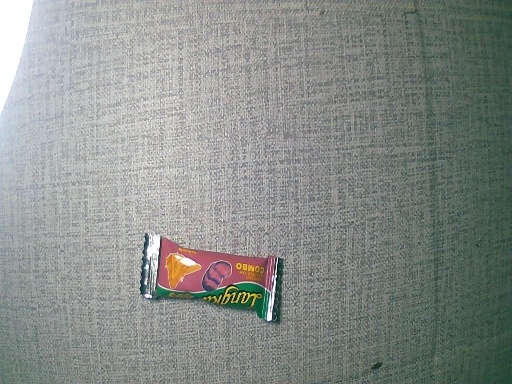plastic: (135, 225, 295, 332)
